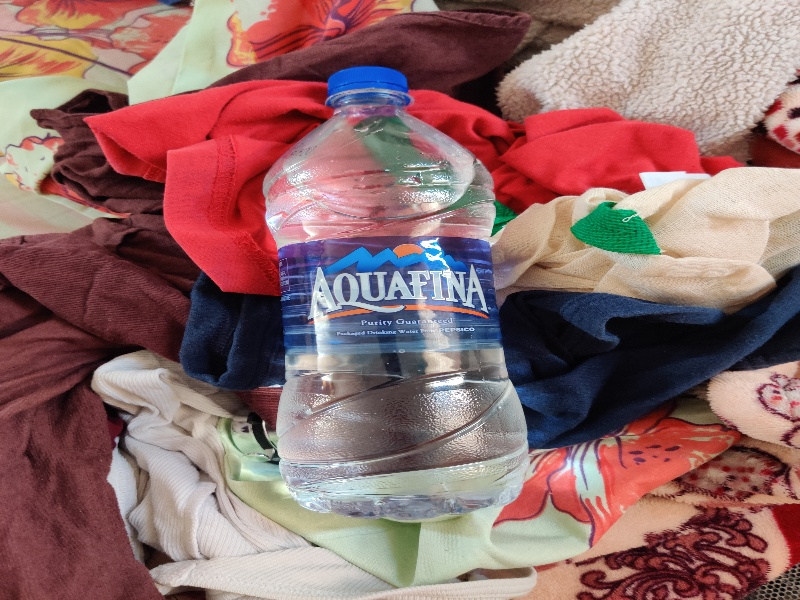bottle: (253, 62, 540, 520)
